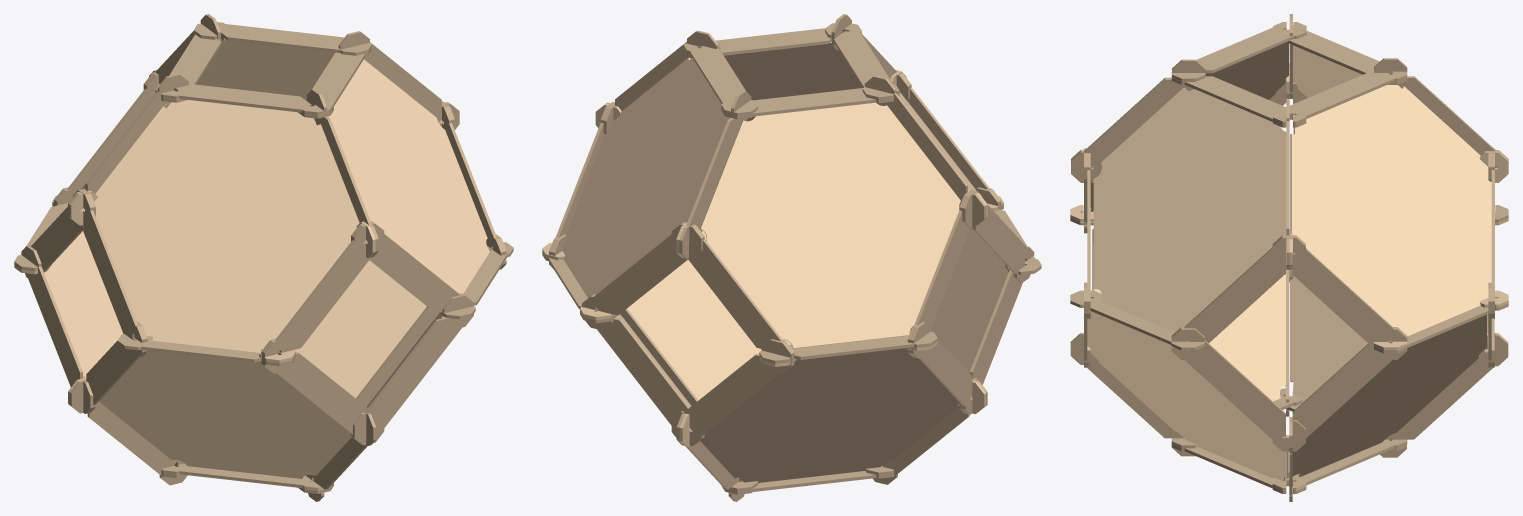
File: rhombi-pod.glb
3 renders of one model, left to right at view 1: azimuth 30°, elevation 25°; view 2: azimuth 150°, elevation 25°; view 3: azimuth 270°, elevation 25°, orthographic. The views are drawn at different scales.
Parts seen in each view (by area): view 1: Hex-1, NODE PARTS, Hex-2; view 2: Hex-2, Hex-1, NODE PARTS; view 3: Hex-1, Hex-2, NODE PARTS.
Boxes of the visible parts, x1=… form: Hex-1: x1=44, y1=39, x2=443, y2=407; NODE PARTS: x1=14, y1=14, x2=513, y2=501; Hex-2: x1=81, y1=59, x2=489, y2=478; Hex-2: x1=615, y1=42, x2=1008, y2=407; Hex-1: x1=562, y1=57, x2=975, y2=482; NODE PARTS: x1=542, y1=14, x2=1041, y2=501; Hex-1: x1=1087, y1=42, x2=1491, y2=481; Hex-2: x1=1092, y1=45, x2=1486, y2=476; NODE PARTS: x1=1070, y1=14, x2=1508, y2=501.
Size of the model in its own units: 2.49 by 2.49 by 2.49.
